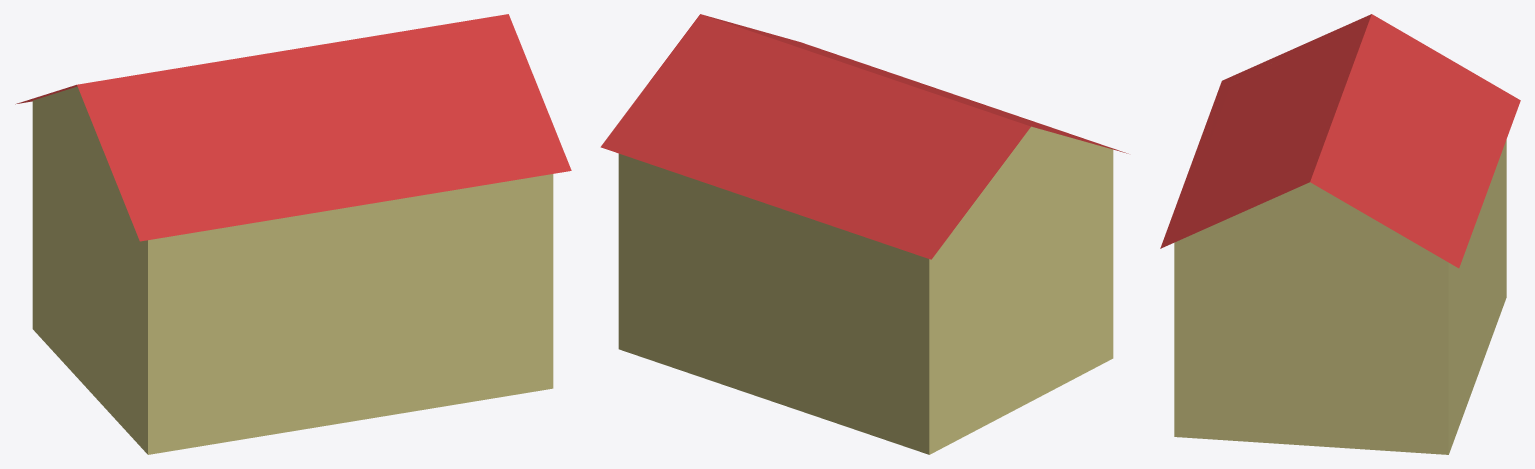
The picture shows the model from 3 angles, left to right: view 1: azimuth 30°, elevation 25°; view 2: azimuth 150°, elevation 25°; view 3: azimuth 270°, elevation 25°; orthographic projection. The views are drawn at different scales.
Size of the model in its own units: 18.02 by 14.63 by 12.03.
